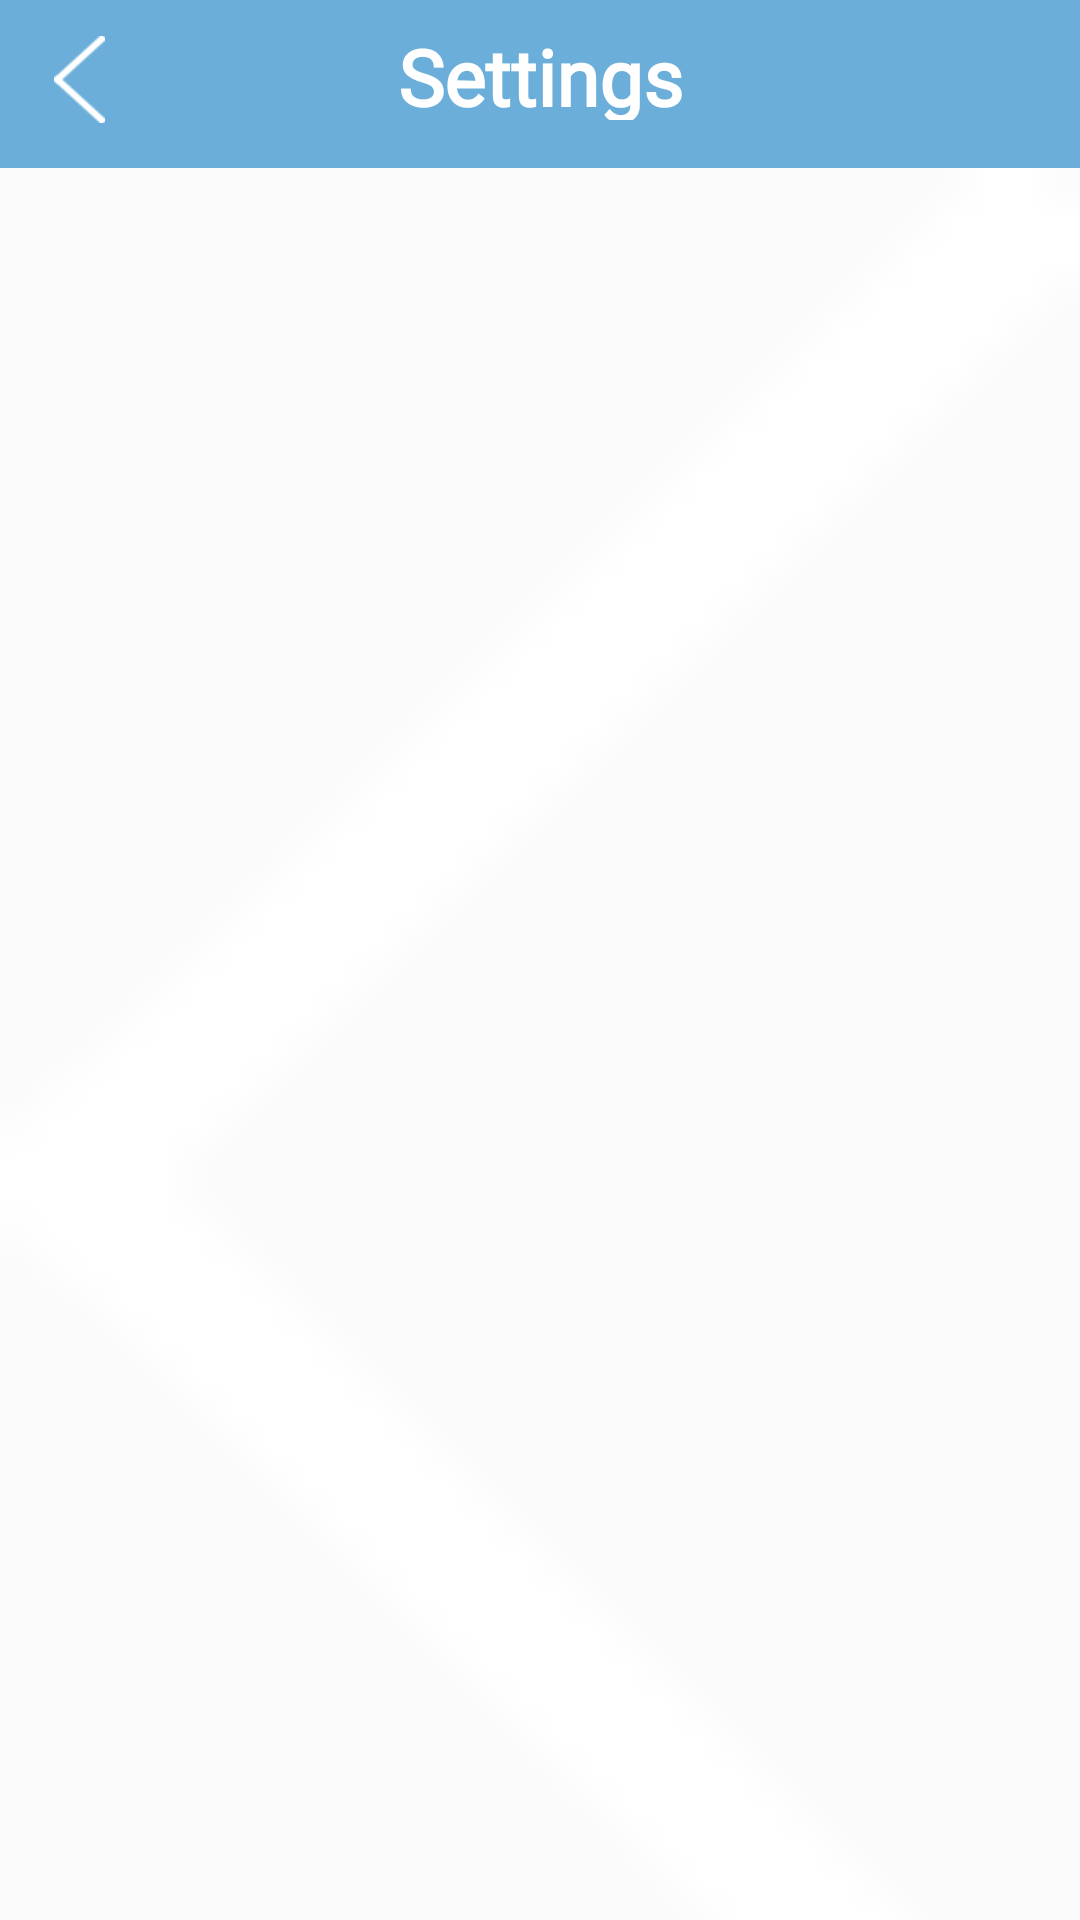

Icons on this 1080px x 1920px Android screen, each with its box as box(x1, y1, x2, y2):
arrow: box(54, 36, 105, 123)
